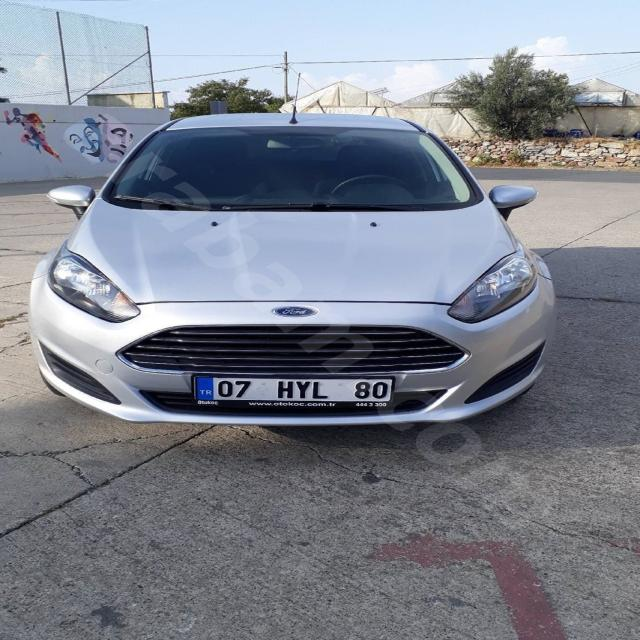license_plate: (193, 376, 392, 401)
